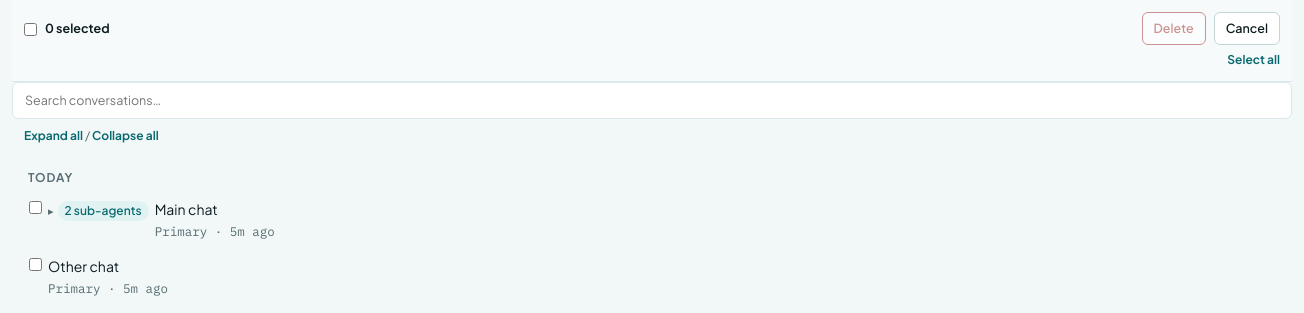
ConversationList select mode › does not open the chat when clicking a row in select mode
The image size is (1304, 313).
Click the button titled "Other chat" at coordinates (98, 277), box left=29, top=257, right=168, bottom=296
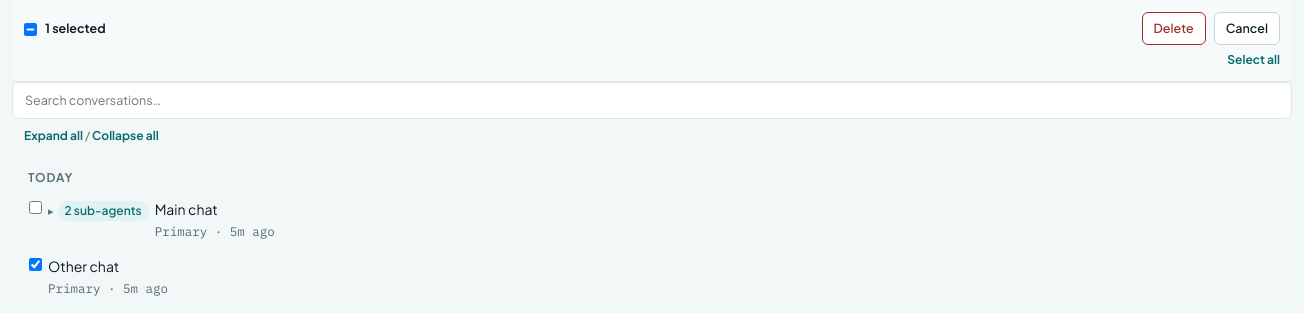
Result: the text "1 selected" is shown at left=45, top=20, right=106, bottom=36
